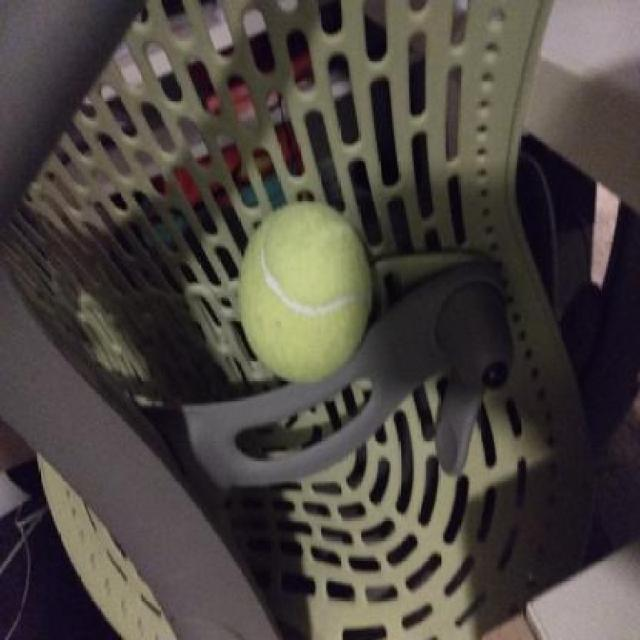Tennis_Ball: (239, 207, 373, 390)
